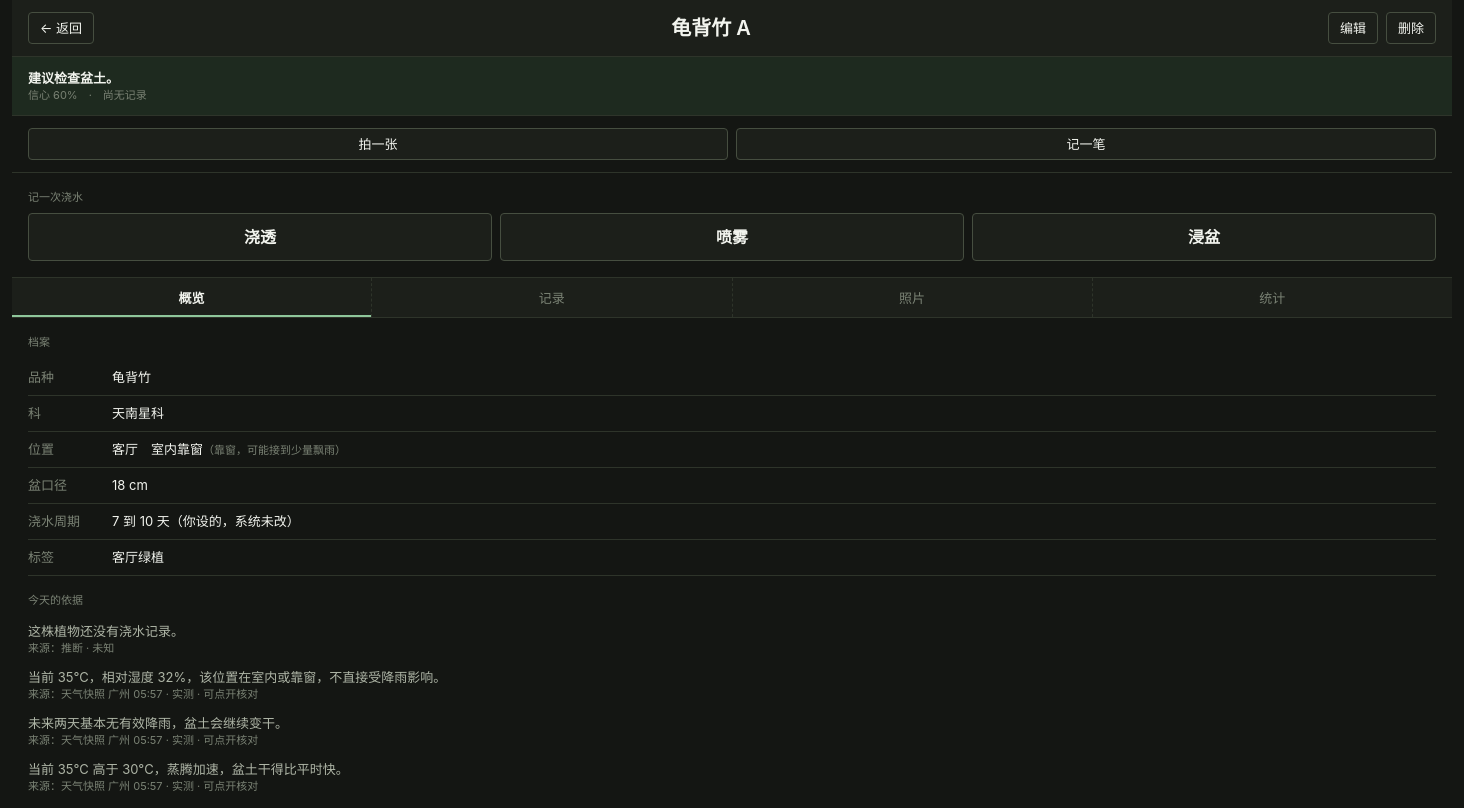
Test case: 照片 tab：成长时间线是视图（D-08） › 空时间线给出引导而不是空白
The width and height of the screenshot is (1464, 808).
Click the button "照片": [913, 298] box left=732, top=278, right=1093, bottom=317
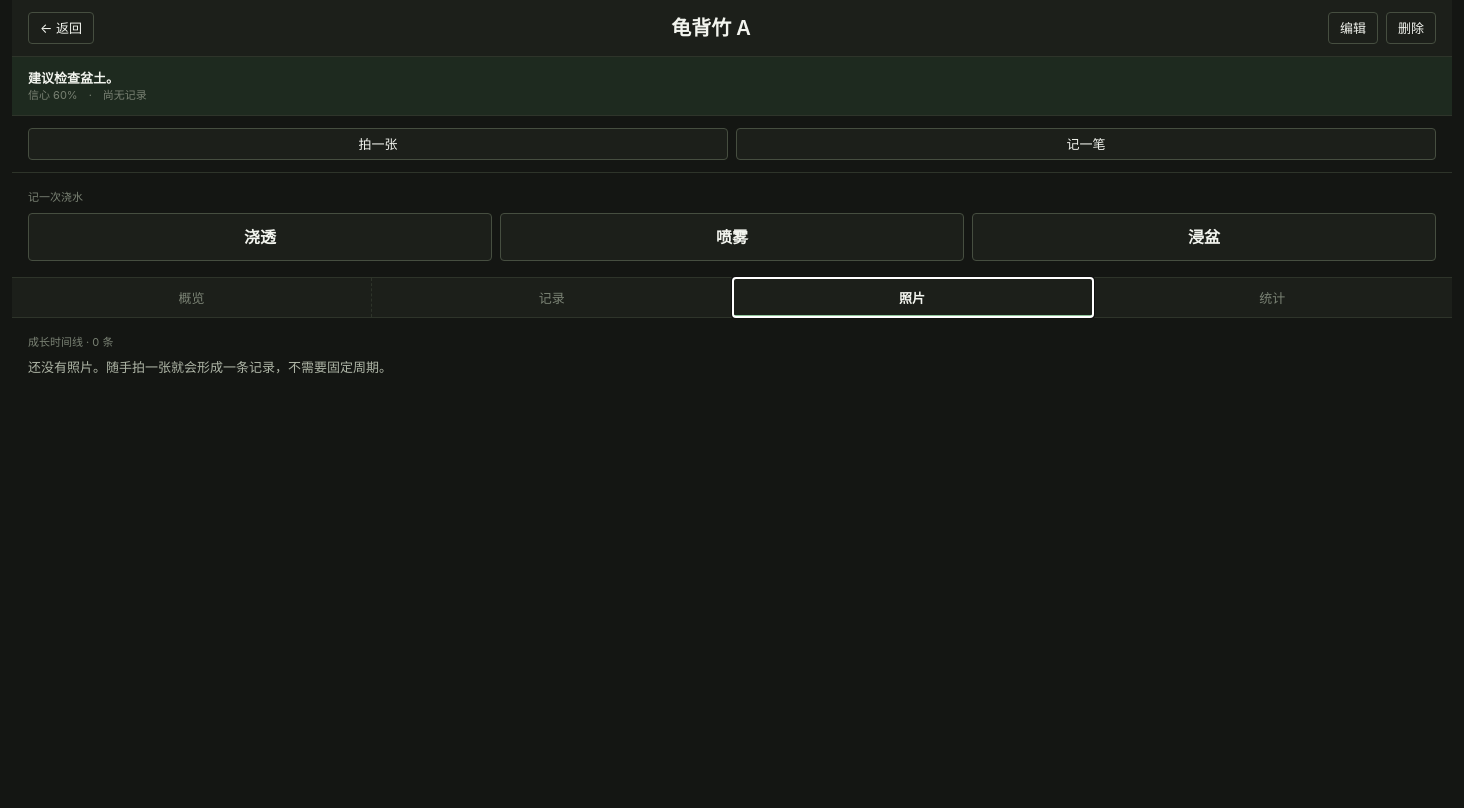
Expected: the text "还没有照片。随手拍一张就会形成一条记录，不需要固定周期。" is shown, left=28, top=359, right=392, bottom=375
